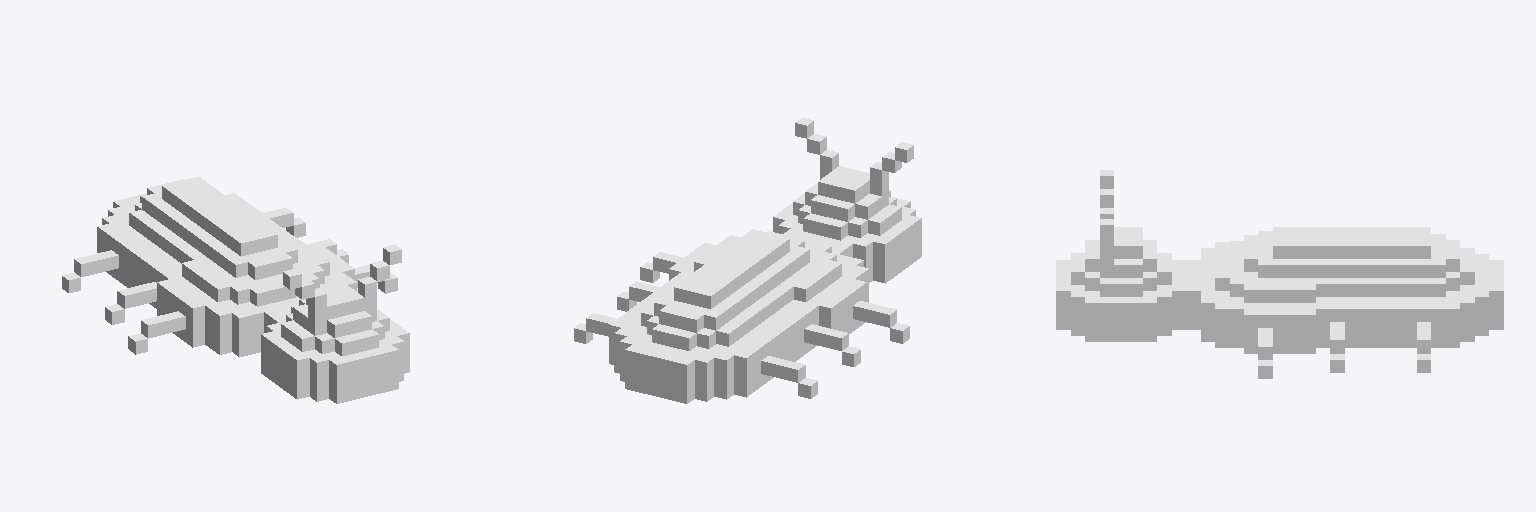
File: cockroach.obj
3 renders of one model, left to right at view 1: azimuth 30°, elevation 25°; view 2: azimuth 150°, elevation 25°; view 3: azimuth 270°, elevation 25°, orthographic.
Size of the model in its own units: 21 by 9 by 31.